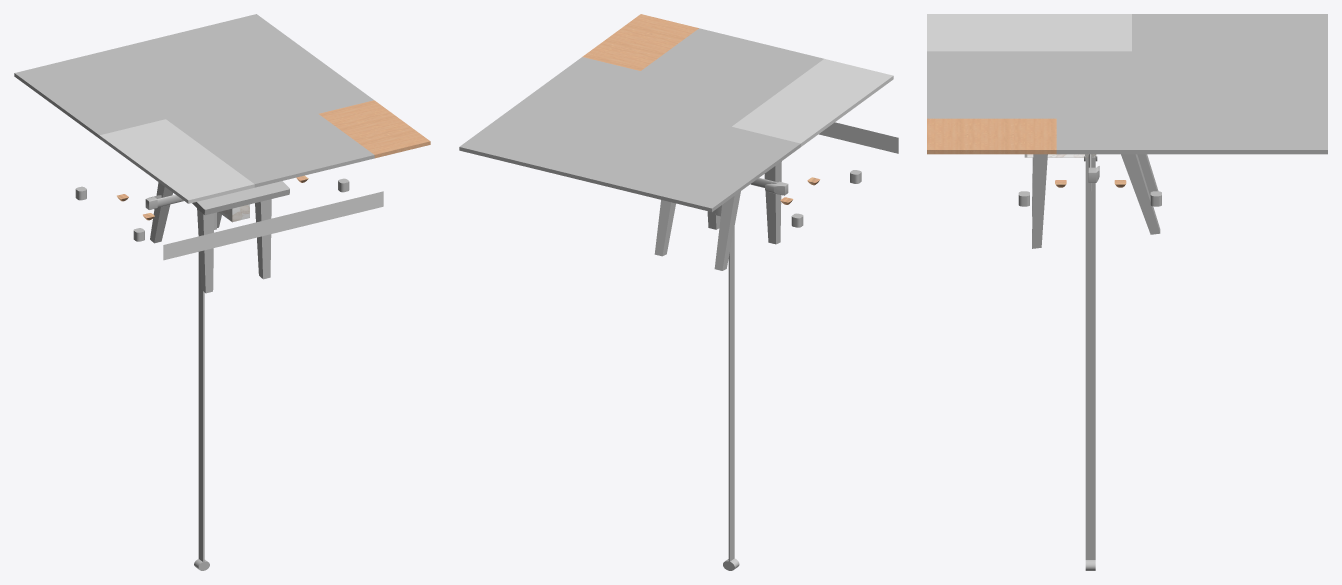
Rendered from teto.fbx.
3 renders of one model, left to right at view 1: azimuth 30°, elevation 25°; view 2: azimuth 150°, elevation 25°; view 3: azimuth 270°, elevation 25°, orthographic. The views are drawn at different scales.
Visible parts, largest first — view 1: Teto_Unido, teto_escritorio.001, teto_quarto.001, teto_trancado.001, pezinho.012, tela, teto_banheiro.001, cortina; view 2: Teto_Unido, teto_escritorio.001, teto_quarto.001, teto_trancado.001, teto_banheiro.001, pezinho.012, cortina, tela; view 3: Teto_Unido, teto_escritorio.001, teto_quarto.001, teto_trancado.001, teto_banheiro.001, cortina, pezinho.012.
Boxes of the visible parts, x1=… form: Teto_Unido: x1=14, y1=14, x2=310, y2=142; teto_escritorio.001: x1=187, y1=53, x2=373, y2=130; teto_quarto.001: x1=199, y1=114, x2=374, y2=187; teto_trancado.001: x1=99, y1=119, x2=254, y2=203; pezinho.012: x1=150, y1=181, x2=289, y2=293; tela: x1=163, y1=191, x2=383, y2=260; teto_banheiro.001: x1=319, y1=100, x2=430, y2=158; cortina: x1=198, y1=252, x2=204, y2=561; Teto_Unido: x1=459, y1=88, x2=800, y2=211; teto_escritorio.001: x1=516, y1=57, x2=711, y2=137; teto_quarto.001: x1=641, y1=28, x2=823, y2=101; teto_trancado.001: x1=732, y1=59, x2=893, y2=146; teto_banheiro.001: x1=582, y1=14, x2=698, y2=70; pezinho.012: x1=654, y1=161, x2=781, y2=270; cortina: x1=728, y1=227, x2=734, y2=561; tela: x1=819, y1=122, x2=898, y2=153; Teto_Unido: x1=1056, y1=14, x2=1327, y2=154; teto_escritorio.001: x1=1056, y1=80, x2=1203, y2=154; teto_quarto.001: x1=927, y1=51, x2=1056, y2=118; teto_trancado.001: x1=927, y1=14, x2=1131, y2=51; teto_banheiro.001: x1=927, y1=118, x2=1056, y2=154; cortina: x1=1085, y1=157, x2=1095, y2=559; pezinho.012: x1=1032, y1=154, x2=1160, y2=248.
Size of the model in its own units: 5997 by 9834 by 7025.
